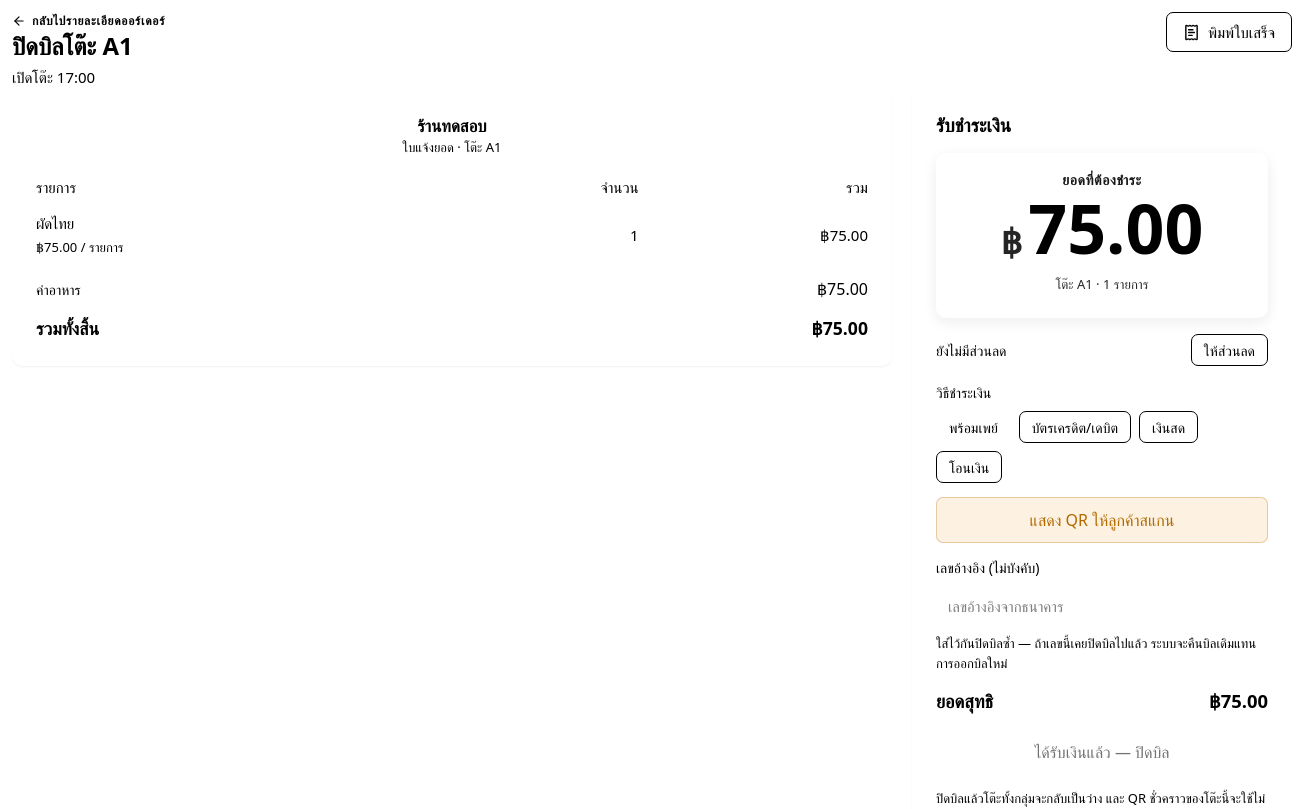
Test: หน้าปิดบิลโต๊ะ — เงินทอน › รับเกินยอด → แถบเตือน 'ต้องทอนเงินลูกค้า' พร้อมยอดทอน
Click the button "เงินสด": (1169, 428) [1139,412,1198,444]
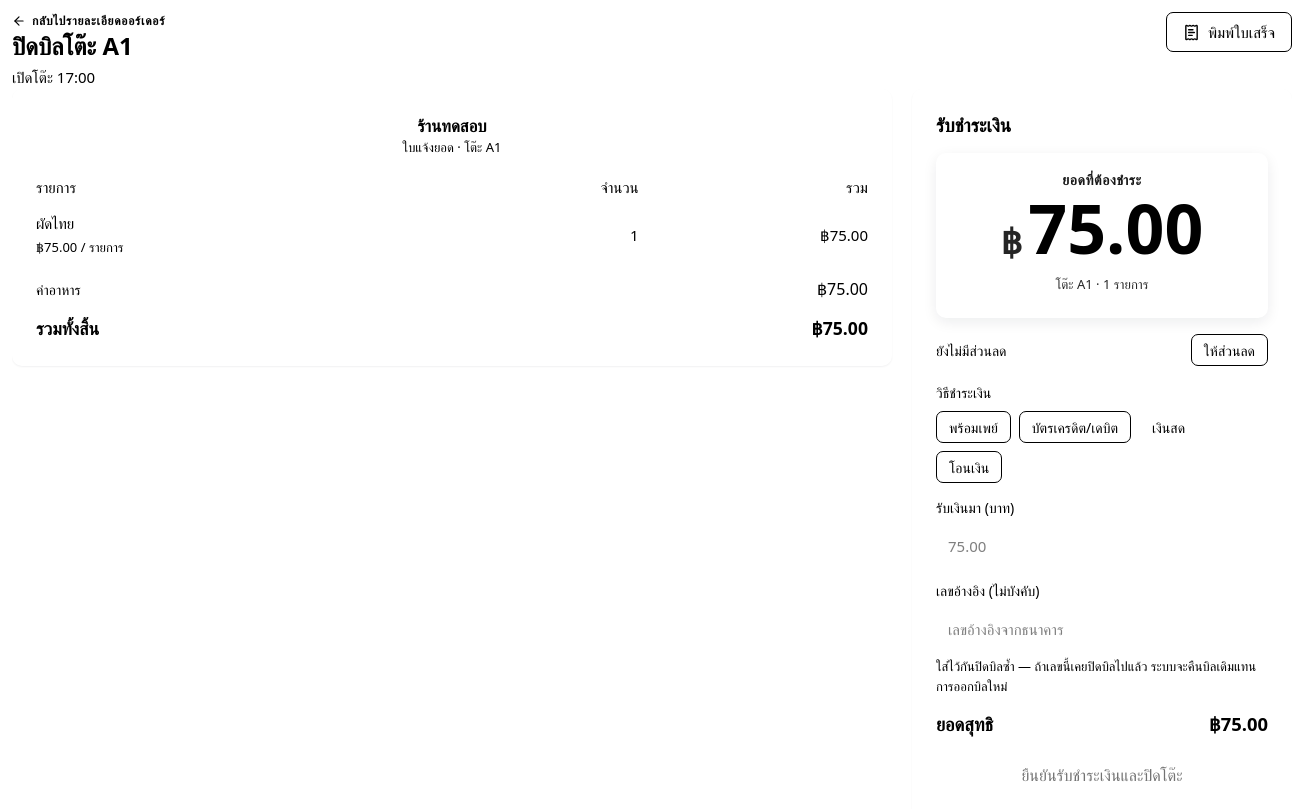
In the field labelled "รับเงินมา (บาท)": (1102, 546) [936,526,1268,566], type "80"
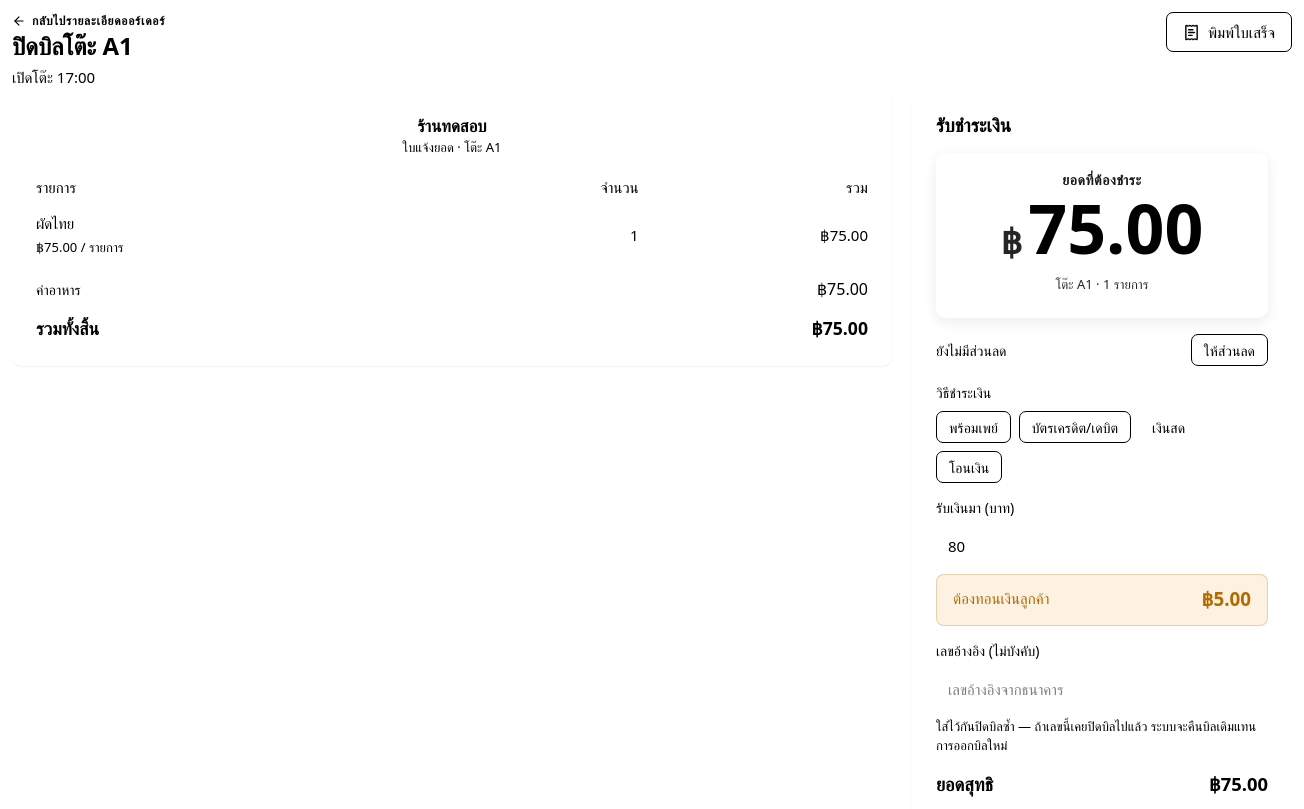
Now the message shows "ต้องทอนเงินลูกค้า", box [953,588,1049,608]
Now the message shows "5.00", box [1213,586,1251,612]
